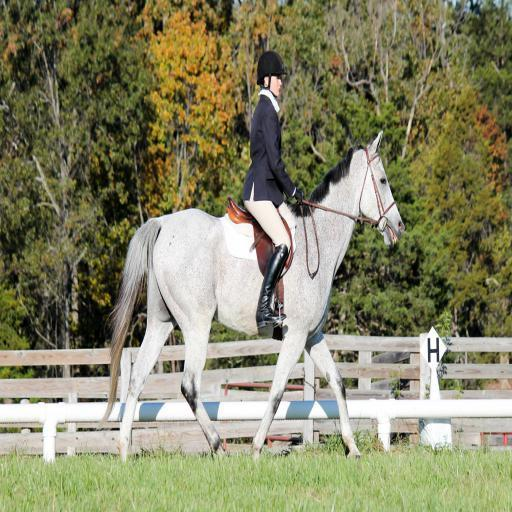horse: (91, 130, 406, 462)
